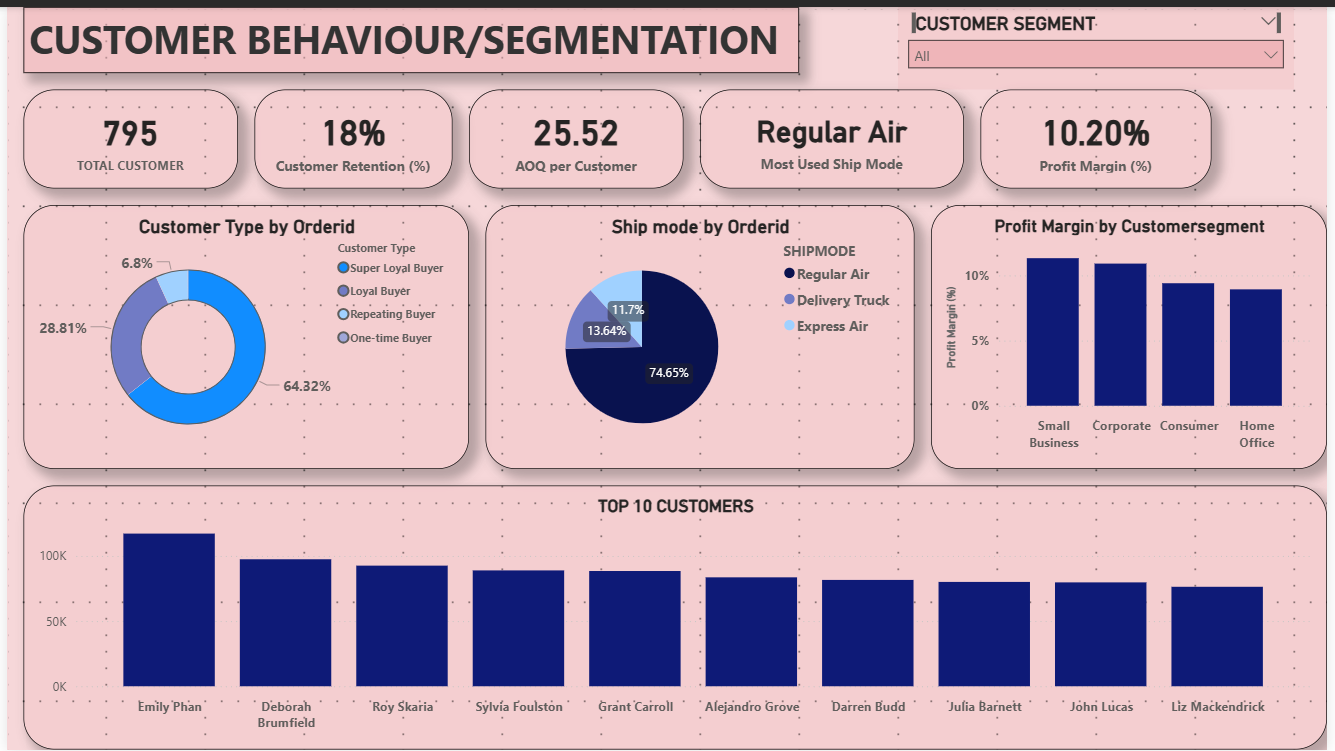

Layout of this report page (visuals, bound fields, positions):
{"tool":"powerbi","page":{"name":"Customer Behaviour","canvas":[1280,720],"ordinal":1},"visuals":[{"type":"card","fields":{"Values":["Cleaned_Online_Dataset.TOTAL CUSTOMER"]},"box":[16,80,208,96],"z":0},{"type":"card","title":"🚚","fields":{"Values":["Cleaned_Online_Dataset.Most Used Ship Mode"]},"box":[672,80,256,96],"z":1},{"type":"card","fields":{"Values":["Cleaned_Online_Dataset.AOQ per Customer"]},"box":[448,80,208,96],"z":2},{"type":"card","fields":{"Values":["Cleaned_Online_Dataset.Customer Retention"]},"box":[240,80,192,96],"z":3},{"type":"pieChart","title":" Ship mode by Orderid","fields":{"Category":["Cleaned_Online_Dataset.SHIPMODE"],"Y":["CountNonNull(Cleaned_Online_Dataset.ORDERID)"]},"box":[464,192,416,256],"z":4},{"type":"clusteredColumnChart","title":"Profit Margin by Customersegment","fields":{"Category":["Cleaned_Online_Dataset.CUSTOMERSEGMENT"],"Y":["Cleaned_Online_Dataset.Profit Margin (%)"]},"box":[896,192,384,256],"z":5},{"type":"card","fields":{"Values":["Cleaned_Online_Dataset.Profit Margin (%)"]},"box":[944,80,224,96],"z":6},{"type":"donutChart","title":"Customer Type by Orderid","fields":{"Category":["Customer_Type_table.Customer Type"],"Y":["CountNonNull(Cleaned_Online_Dataset.ORDERID)"]},"box":[16,192,432,256],"z":7},{"type":"clusteredColumnChart","title":"TOP 10 CUSTOMERS","fields":{"Y":["Cleaned_Online_Dataset.TOTAL SALES"],"Category":["Cleaned_Online_Dataset.CUSTOMERNAME"]},"box":[16,464,1264,256],"z":8},{"type":"textbox","box":[16,0,752,64],"z":9},{"type":"slicer","fields":{"Values":["Cleaned_Online_Dataset.CUSTOMERSEGMENT"]},"box":[864,0,384,80],"z":10}]}

Visuals, with their boxes in screenshot pixels (x1, y1, x2, y2), scaled from the page's 1280x720 canvas onto the 1335x751 screenshot:
card - Cleaned_Online_Dataset.TOTAL CUSTOMER: pyautogui.locateOnScreen(17, 83, 234, 184)
"🚚" card: pyautogui.locateOnScreen(701, 83, 968, 184)
card - Cleaned_Online_Dataset.AOQ per Customer: pyautogui.locateOnScreen(467, 83, 684, 184)
card - Cleaned_Online_Dataset.Customer Retention: pyautogui.locateOnScreen(250, 83, 451, 184)
" Ship mode by Orderid" pieChart: pyautogui.locateOnScreen(484, 200, 918, 467)
"Profit Margin by Customersegment" clusteredColumnChart: pyautogui.locateOnScreen(934, 200, 1334, 467)
card - Cleaned_Online_Dataset.Profit Margin (%): pyautogui.locateOnScreen(985, 83, 1218, 184)
"Customer Type by Orderid" donutChart: pyautogui.locateOnScreen(17, 200, 467, 467)
"TOP 10 CUSTOMERS" clusteredColumnChart: pyautogui.locateOnScreen(17, 484, 1334, 750)
textbox: pyautogui.locateOnScreen(17, 0, 801, 67)
slicer - Cleaned_Online_Dataset.CUSTOMERSEGMENT: pyautogui.locateOnScreen(901, 0, 1302, 83)
